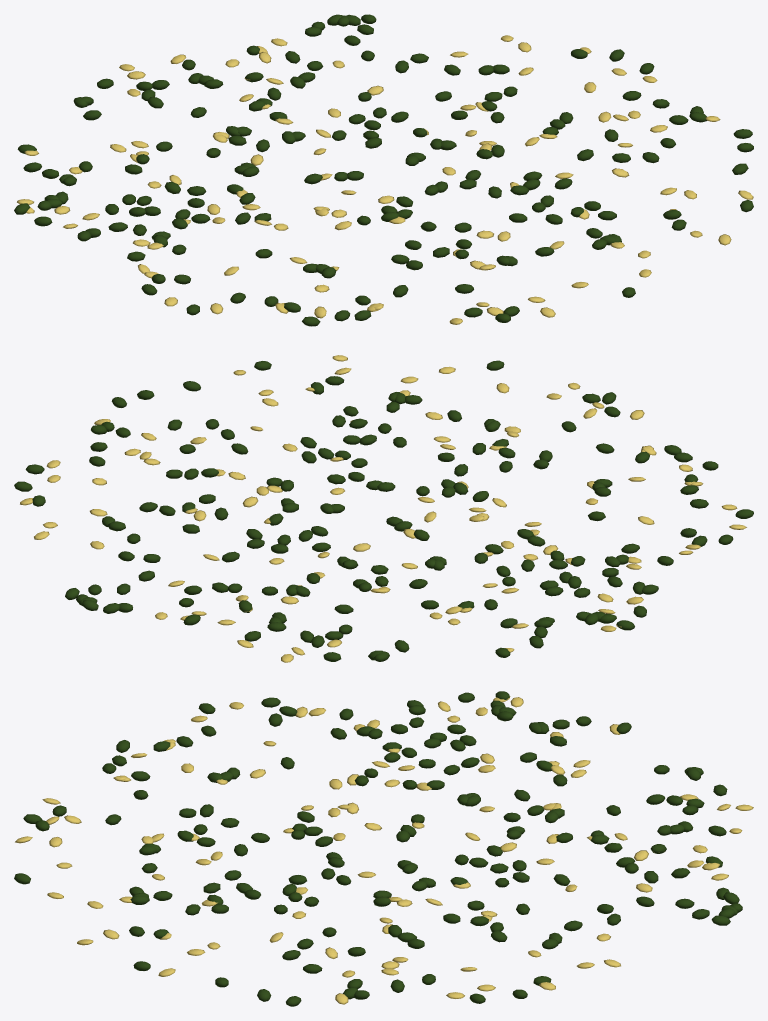
File: FOOD_Season_MungBean.glb
The picture shows the model from 3 angles, top to bottom: view 1: azimuth 30°, elevation 25°; view 2: azimuth 150°, elevation 25°; view 3: azimuth 270°, elevation 25°; orthographic projection. The views are drawn at different scales.
Parts seen in each view (by area): view 1: FOOD_Season_MungBean; view 2: FOOD_Season_MungBean; view 3: FOOD_Season_MungBean.
Part boxes in pixels (bbox=[...]): FOOD_Season_MungBean: bbox=[14, 14, 753, 326]; FOOD_Season_MungBean: bbox=[14, 355, 753, 662]; FOOD_Season_MungBean: bbox=[14, 691, 753, 1006].
Bounding box in the file's own units: 0.6 × 0.008 × 0.6.
2 materials, 2 textured.
